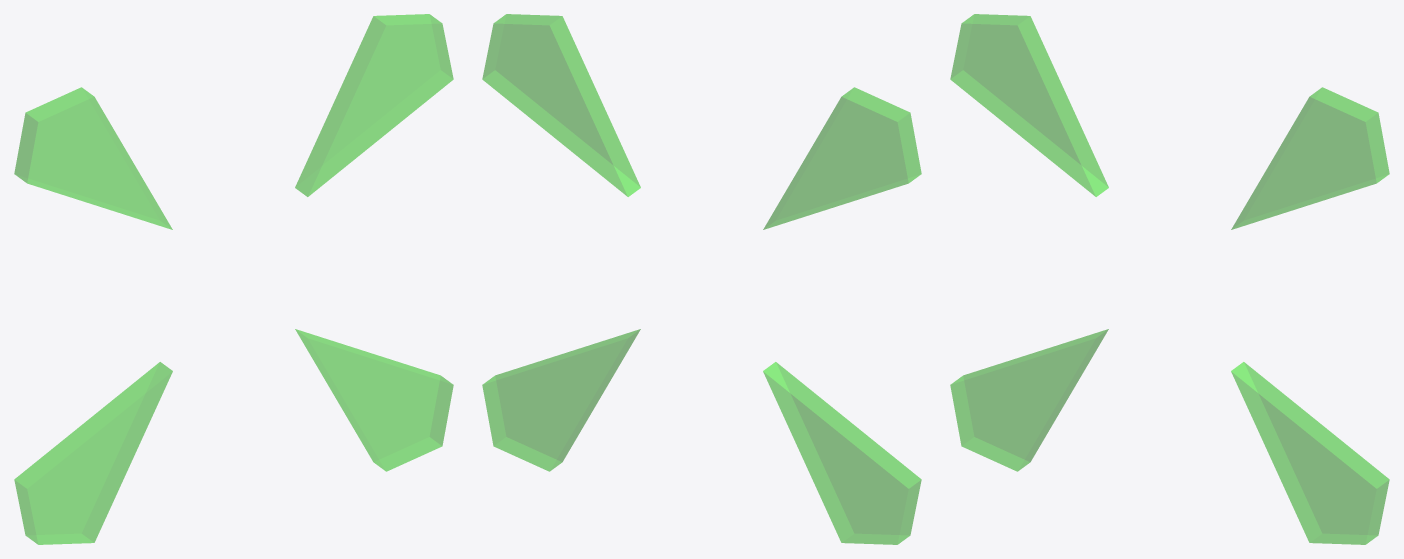
File: Cursor.dae
3 renders of one model, left to right at view 1: azimuth 30°, elevation 25°; view 2: azimuth 150°, elevation 25°; view 3: azimuth 330°, elevation 25°, orthographic.
Parts seen in each view (by area): view 1: Cursor; view 2: Cursor; view 3: Cursor.
Boxes of the visible parts, bbox=[...] form: Cursor: bbox=[14, 14, 453, 544]; Cursor: bbox=[482, 14, 921, 544]; Cursor: bbox=[950, 14, 1389, 544].
Bounding box in the file's own units: 0.95 × 0.05 × 0.95.
